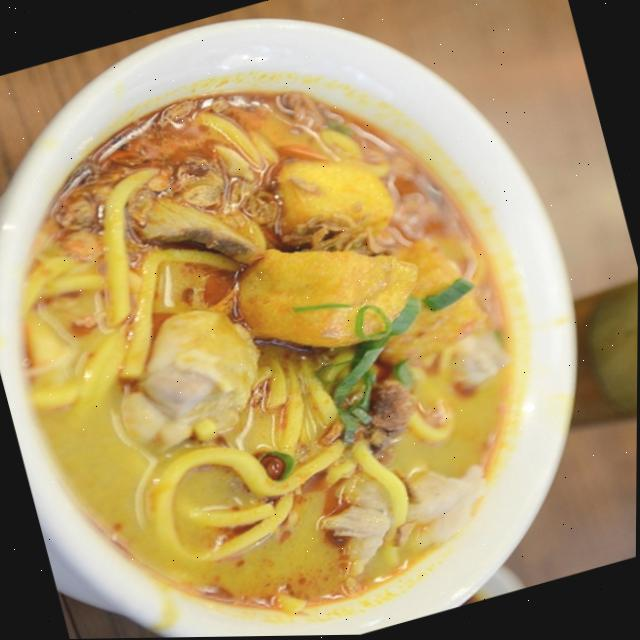面条主食: (12, 0, 582, 639)
